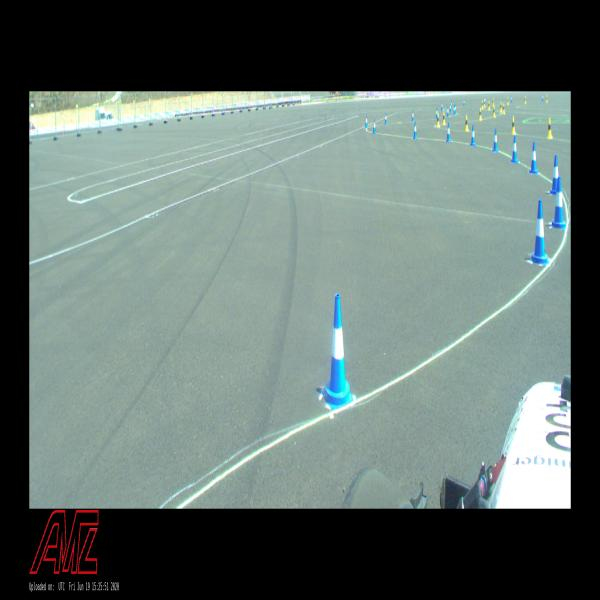blue_cone: (322, 294, 354, 410), (530, 200, 549, 268), (551, 176, 567, 230), (550, 155, 561, 193), (529, 142, 539, 174), (491, 128, 499, 152), (511, 136, 518, 162), (470, 125, 476, 147), (412, 121, 418, 140), (446, 123, 451, 143), (372, 119, 376, 134), (365, 115, 368, 128), (384, 113, 387, 125), (411, 110, 414, 121), (446, 107, 449, 118), (453, 104, 456, 115), (435, 108, 438, 118), (454, 104, 457, 114), (541, 93, 544, 102), (449, 103, 452, 112), (510, 95, 513, 103), (441, 102, 443, 111), (450, 100, 452, 108), (463, 100, 465, 106)
yellow_cone: (546, 117, 553, 139), (511, 116, 516, 135), (464, 115, 469, 132), (436, 114, 440, 127), (478, 108, 482, 120), (492, 106, 496, 117), (442, 112, 445, 125), (502, 103, 505, 114), (483, 98, 486, 108), (481, 100, 484, 109), (506, 97, 509, 105), (545, 95, 548, 103), (500, 102, 502, 112), (524, 95, 526, 104), (488, 101, 490, 110), (492, 99, 494, 106)
